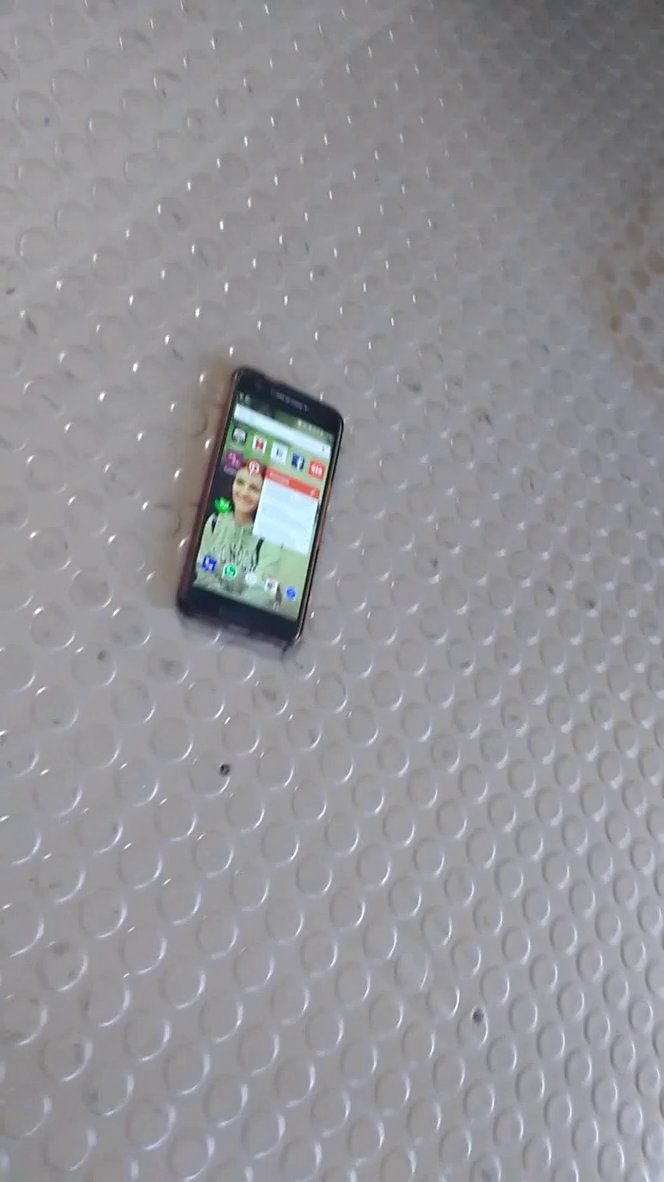phone: (154, 353, 364, 667)
